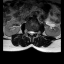CCS_normal: (30, 28, 32, 38)
LFS_normal: (34, 28, 36, 35)
LLS_normal: (32, 29, 34, 36)
RFS_normal: (26, 28, 28, 35)
RLS_normal: (28, 28, 30, 36)
